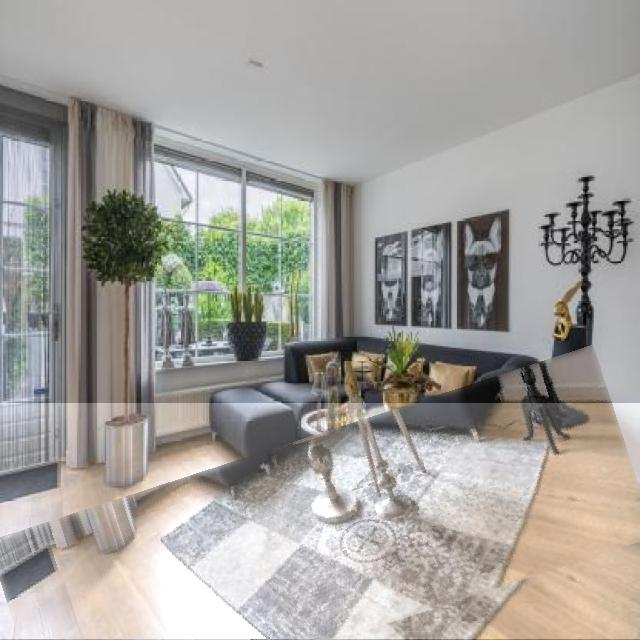floor: (0, 403, 640, 640)
